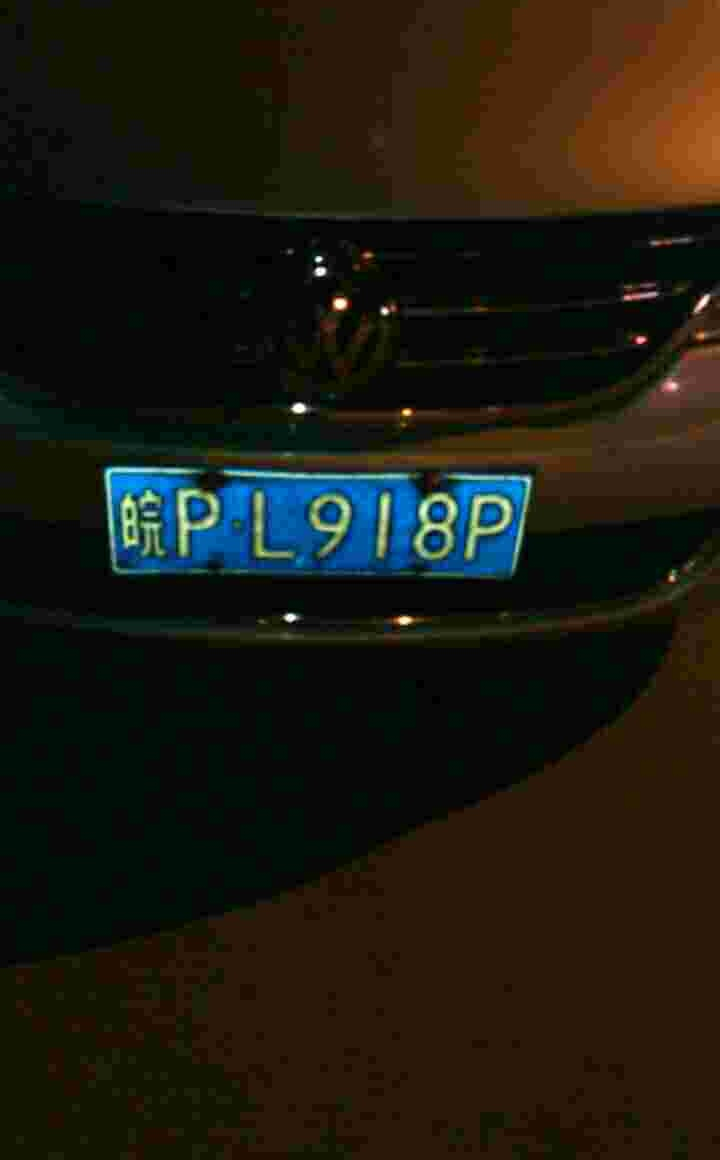license_plate: (109, 460, 538, 589)
